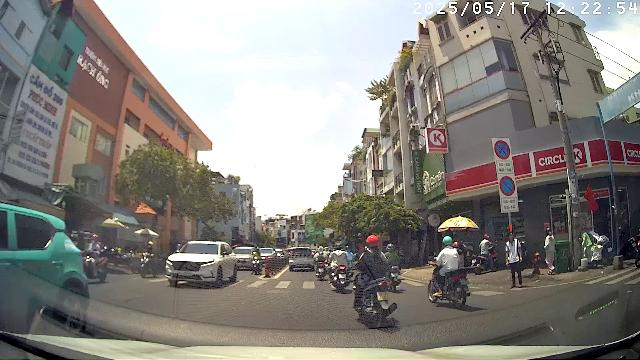130-cam-dung-va-do-xe: (494, 140, 511, 160)
131a-cam-do-xe: (498, 176, 516, 197)
